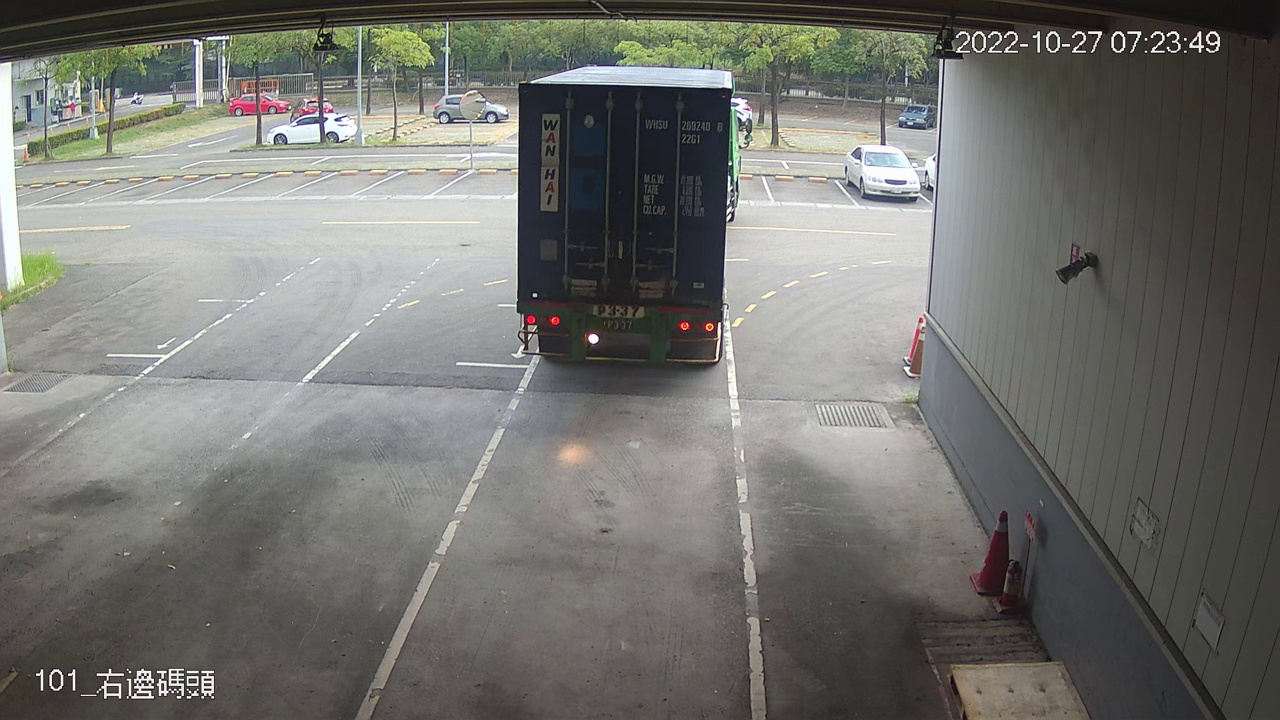container: (641, 114, 726, 148)
